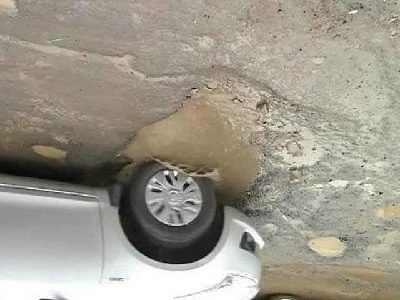pothole: (110, 67, 308, 222), (305, 235, 351, 260), (28, 141, 70, 162), (370, 199, 399, 227)
